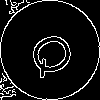Q: (25, 25, 85, 81)
